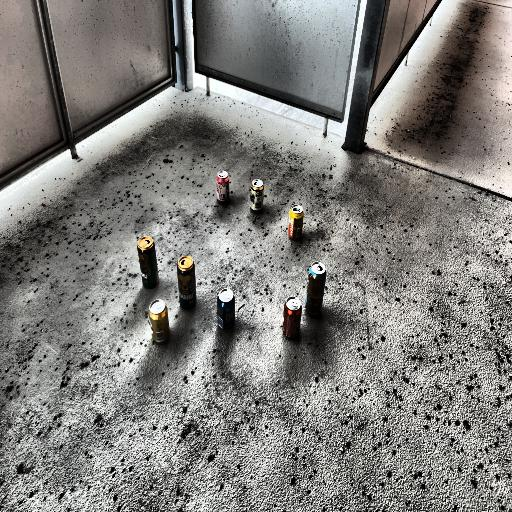A_LeCoq: (144, 298, 172, 354)
coop_larger: (274, 294, 306, 340)
karhu: (172, 252, 204, 314), (130, 230, 160, 292)
koff: (207, 160, 233, 209)
koti: (214, 280, 238, 336)
sandels: (246, 170, 276, 230)
